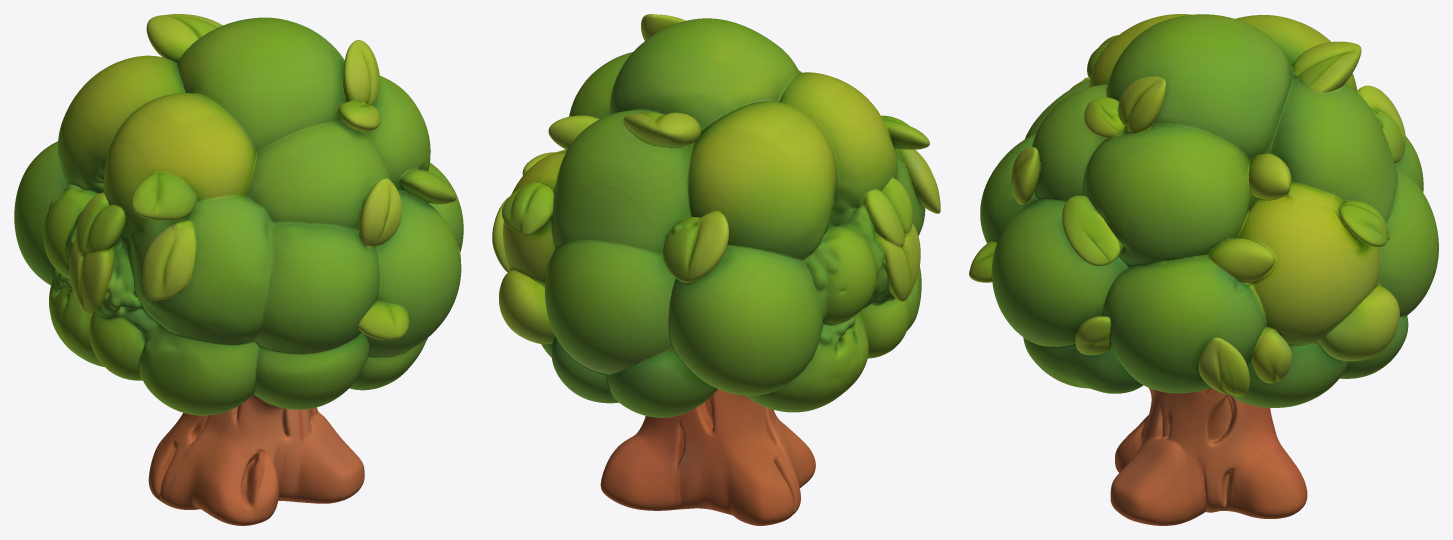
The model's file is tree.glb.
3 views of the same model, side by side, from view 1: azimuth 30°, elevation 25°; view 2: azimuth 150°, elevation 25°; view 3: azimuth 270°, elevation 25° (orthographic). The views are drawn at different scales.
Visible parts, largest first — view 1: tripo_node_503170f6-87c0-4ba1-a1b6-be631a741928; view 2: tripo_node_503170f6-87c0-4ba1-a1b6-be631a741928; view 3: tripo_node_503170f6-87c0-4ba1-a1b6-be631a741928.
Part boxes in pixels (x1,y1,x2,y2): tripo_node_503170f6-87c0-4ba1-a1b6-be631a741928: (14, 14, 463, 525); tripo_node_503170f6-87c0-4ba1-a1b6-be631a741928: (492, 14, 940, 525); tripo_node_503170f6-87c0-4ba1-a1b6-be631a741928: (969, 14, 1438, 525).
Size of the model in its own units: 0.878 by 1 by 0.886.
1 material, 1 textured.
